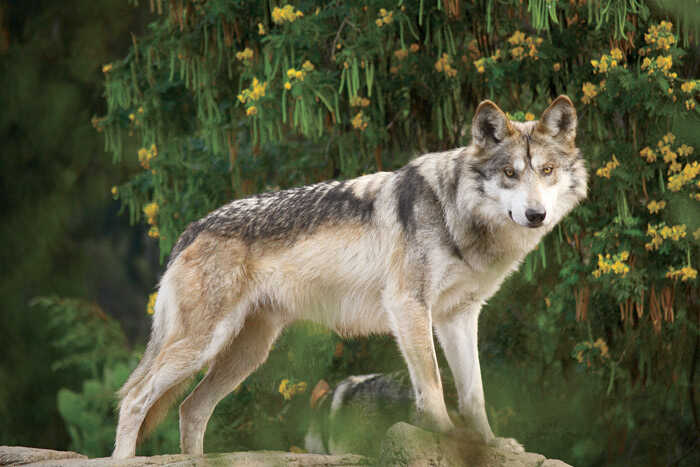Lobo: (96, 88, 611, 454)
